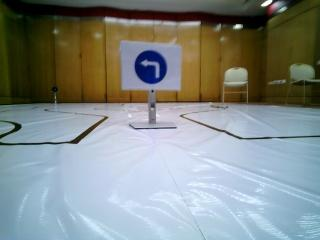left: (129, 44, 185, 90)
